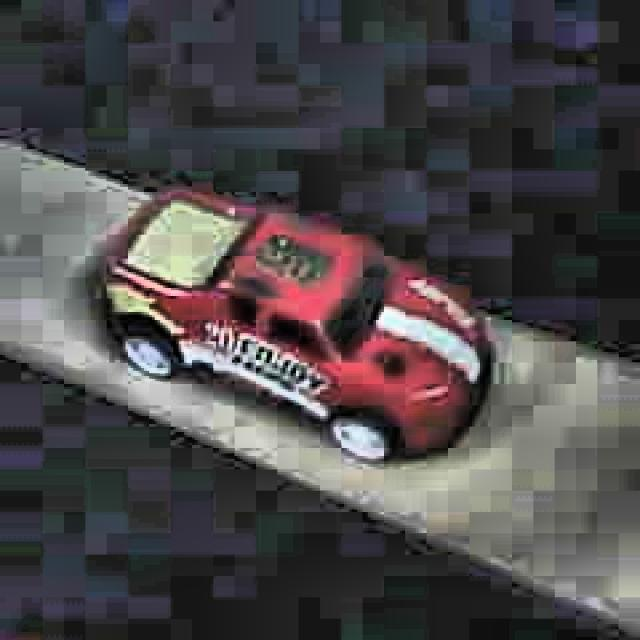car: (99, 180, 495, 470)
